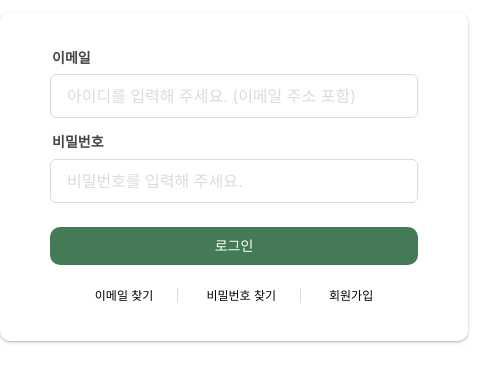
LoginForm 컴포넌트 테스트 › 이메일이나 비밀번호 입력 없이 엔터를 눌렀을 경우 입력 요청에 대한 문구를 화면에 렌더링해야 한다.
Click the field labelled "이메일".
click(234, 96)  # box [50,74,418,118]
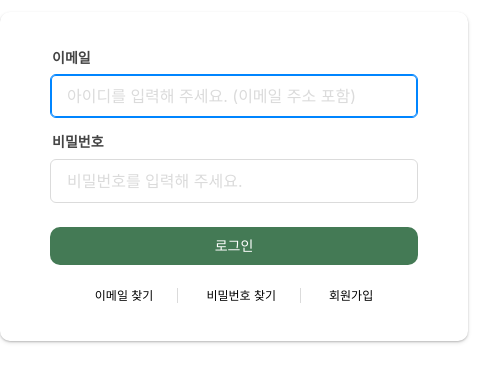
Click the button with aria-label "login-submit".
click(234, 246)  # box [50,227,418,265]
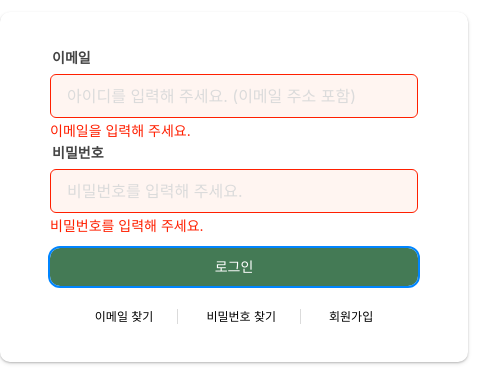
Now the text "이메일을 입력해 주세요." is shown, box [50,122,191,140]
